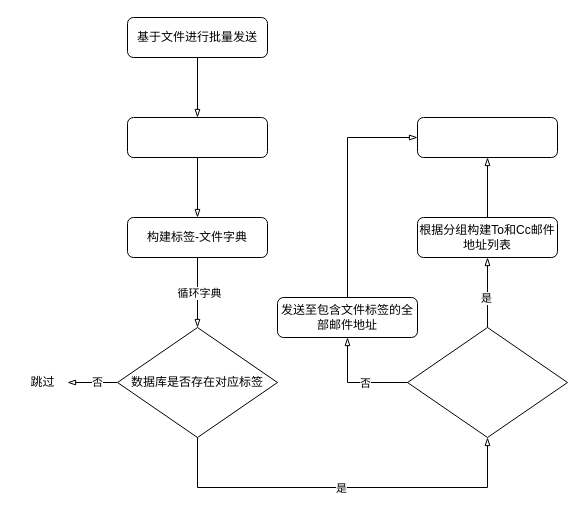
Some shapes in this 585 by 513 pixel diagram are drawn without their labels. Here are the shapes that lost their labels. From the top down, the centre of each, then its label:
(x=197, y=137): 根据分隔符识别标签
(x=487, y=137): 发送邮件
(x=487, y=382): 是否选择TO和Cc分组
